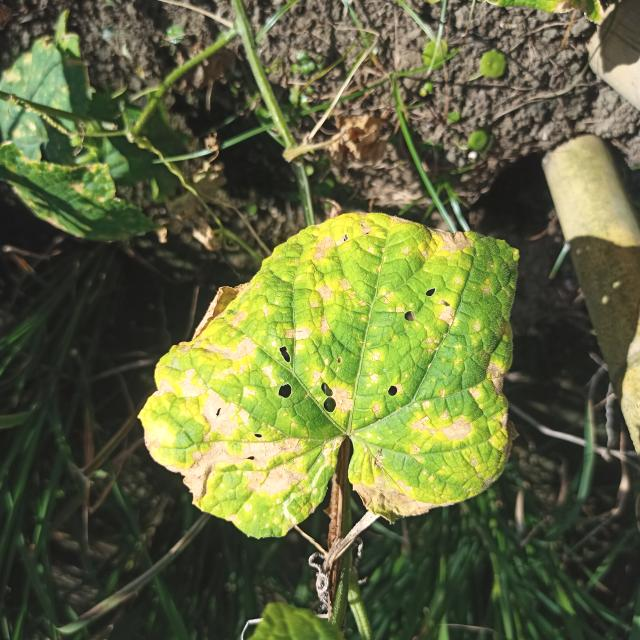disease_cucumber: (144, 210, 520, 535)
